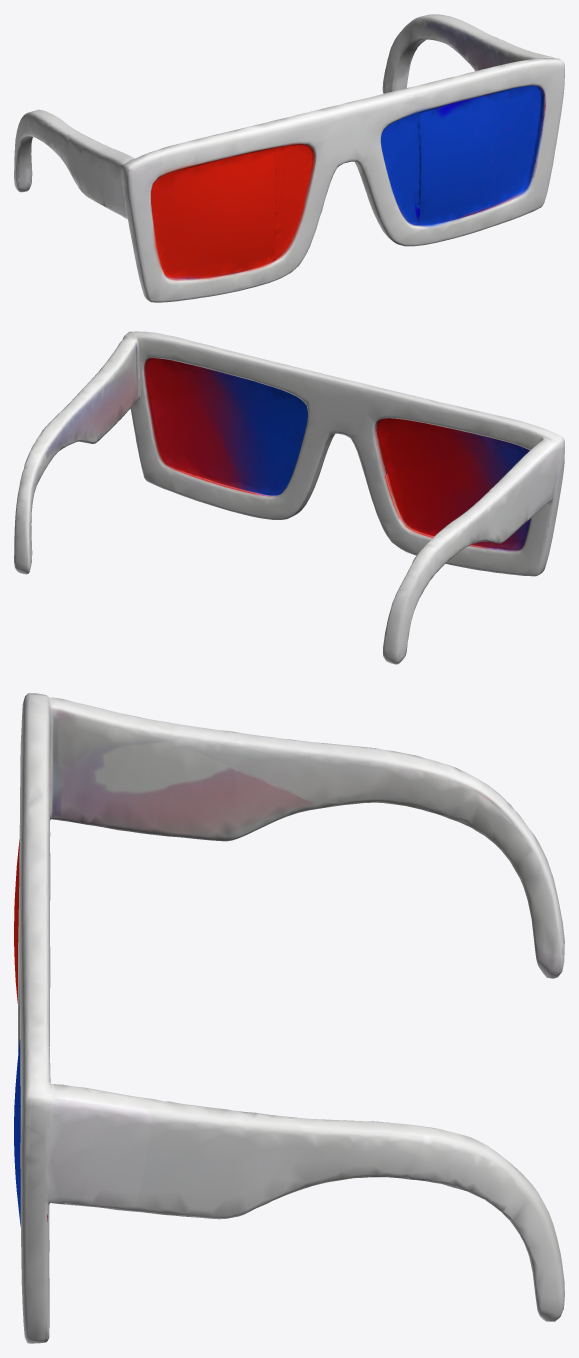
3 views of the same model, one above another, from view 1: azimuth 30°, elevation 25°; view 2: azimuth 150°, elevation 25°; view 3: azimuth 270°, elevation 25° (orthographic). The views are drawn at different scales.
Visible parts, largest first — view 1: Mesh_0.002; view 2: Mesh_0.002; view 3: Mesh_0.002.
Part boxes in pixels (x1,y1,x2,y2): Mesh_0.002: [14, 14, 564, 302]; Mesh_0.002: [14, 331, 564, 664]; Mesh_0.002: [14, 693, 564, 1343].
Size of the model in its own units: 0.5607 by 0.1937 by 0.3216.
1 material, 1 textured.
